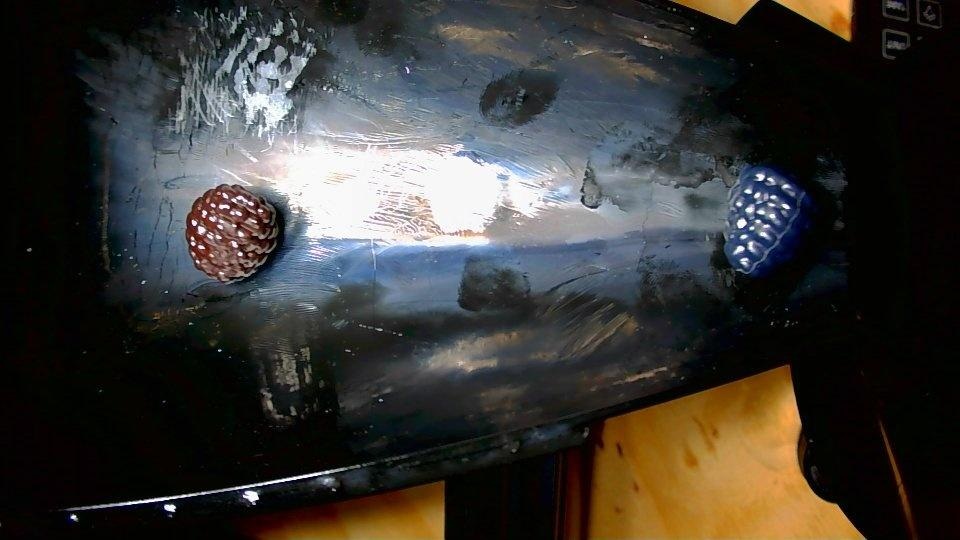berry: (723, 165, 818, 277), (185, 184, 279, 282)
